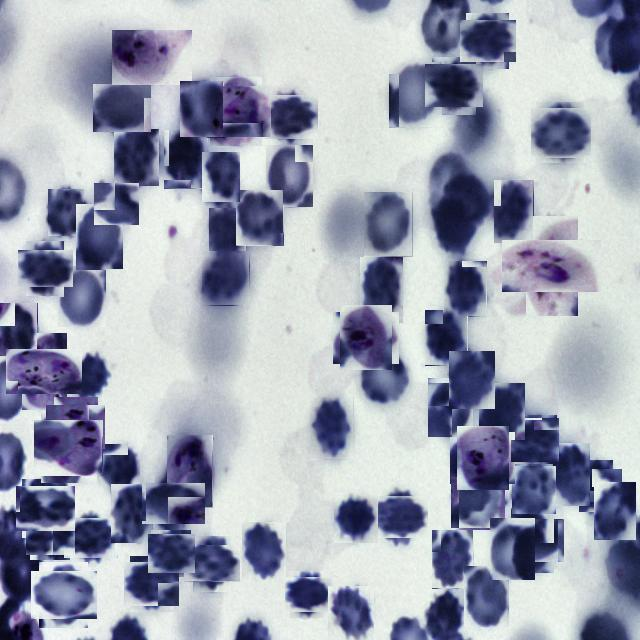red blood cell: (389, 61, 443, 128), (34, 566, 92, 624), (364, 192, 413, 257), (533, 104, 589, 160), (358, 348, 411, 406), (76, 204, 123, 269), (266, 145, 314, 208), (58, 264, 106, 326), (506, 514, 560, 568), (95, 80, 149, 134), (360, 257, 403, 323), (452, 476, 504, 530), (490, 518, 535, 580), (310, 397, 354, 460), (428, 378, 474, 438), (19, 482, 71, 535), (464, 566, 509, 627), (50, 401, 102, 453), (148, 477, 200, 529), (236, 190, 284, 246), (114, 129, 160, 187), (449, 351, 495, 409), (202, 251, 250, 306), (479, 383, 525, 440), (428, 60, 479, 111), (164, 130, 208, 189), (494, 180, 534, 243), (242, 522, 286, 579), (180, 81, 224, 138), (375, 492, 425, 542), (462, 16, 512, 66), (127, 558, 177, 608), (264, 92, 314, 142), (328, 586, 374, 640), (432, 530, 474, 589), (111, 484, 153, 543), (594, 482, 636, 540), (444, 261, 487, 317), (425, 310, 468, 366), (66, 514, 115, 562), (553, 443, 590, 506), (333, 492, 378, 543), (188, 540, 235, 588), (68, 350, 110, 402), (99, 444, 141, 496), (512, 416, 558, 463), (22, 246, 68, 292), (512, 466, 556, 514), (0, 303, 38, 357), (28, 514, 72, 558), (95, 182, 139, 226), (574, 464, 618, 508), (202, 152, 240, 202), (209, 208, 246, 258), (150, 532, 192, 575), (287, 574, 329, 616), (48, 189, 84, 236)
trophozoite: (514, 228, 590, 304), (112, 30, 192, 85), (38, 416, 100, 479), (14, 341, 75, 402), (206, 82, 266, 142), (336, 308, 396, 368), (454, 428, 512, 488), (167, 435, 213, 508)
